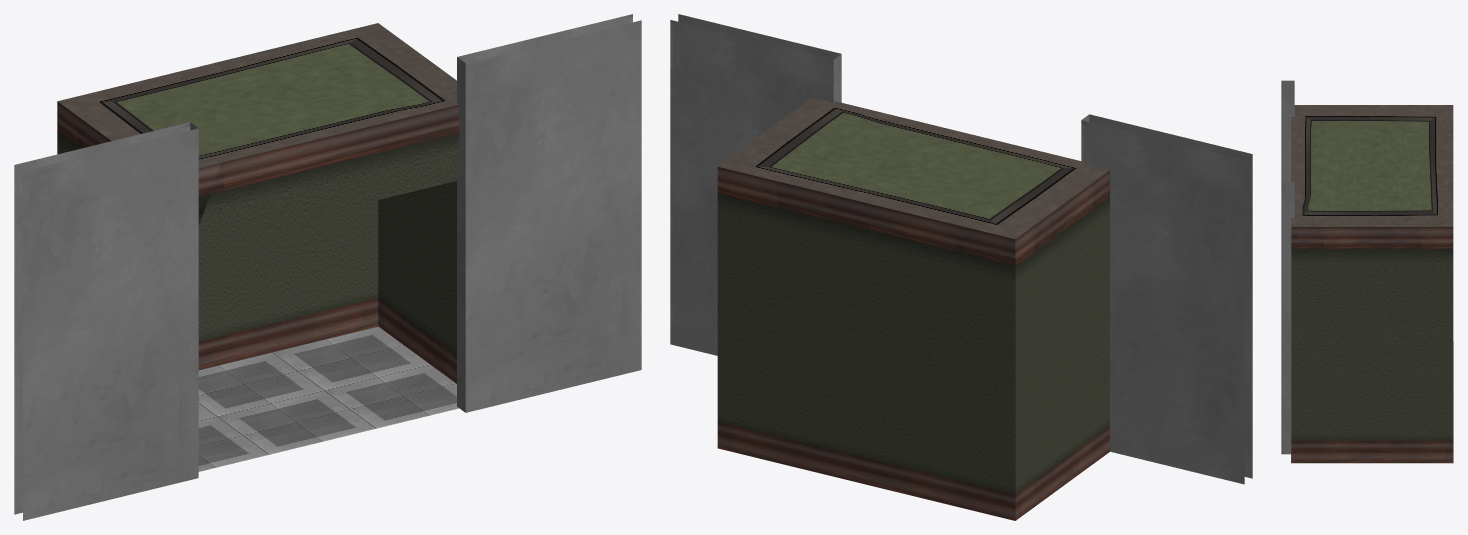
The model's file is office_elevator.fbx.
The picture shows the model from 3 angles, left to right: view 1: azimuth 30°, elevation 25°; view 2: azimuth 150°, elevation 25°; view 3: azimuth 270°, elevation 25°; orthographic projection. The views are drawn at different scales.
Parts seen in each view (by area): view 1: elevator, left_door, right_door, ground; view 2: elevator, left_door, right_door; view 3: elevator, right_door, left_door, ground.
Boxes of the visible parts, bbox=[...] form: elevator: bbox=[57, 23, 459, 383]; left_door: bbox=[14, 122, 198, 520]; right_door: bbox=[457, 14, 641, 412]; ground: bbox=[198, 326, 458, 471]; elevator: bbox=[717, 97, 1109, 520]; left_door: bbox=[1081, 114, 1252, 484]; right_door: bbox=[670, 14, 841, 355]; elevator: bbox=[1291, 105, 1453, 462]; right_door: bbox=[1281, 182, 1294, 454]; left_door: bbox=[1281, 80, 1294, 181]; ground: bbox=[1291, 341, 1453, 463].
Size of what is drawn, in the model's own units: 73.22 by 39.55 by 22.69.
5 materials, 5 textured.
